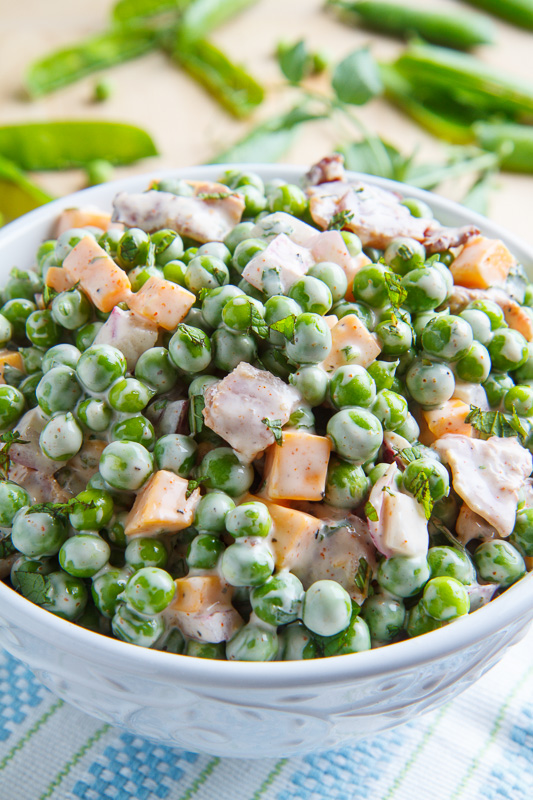boiled peas: (369, 261, 478, 383), (43, 517, 147, 628), (194, 296, 323, 359), (337, 349, 386, 468)
